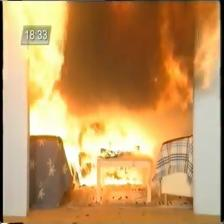fire: (20, 0, 76, 135), (153, 2, 201, 112), (66, 136, 97, 191), (97, 125, 152, 156)
